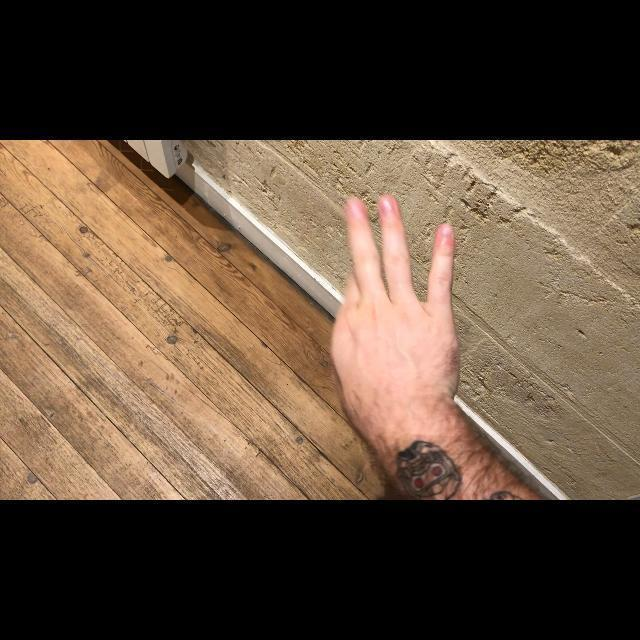bare_hand: (327, 192, 466, 412)
